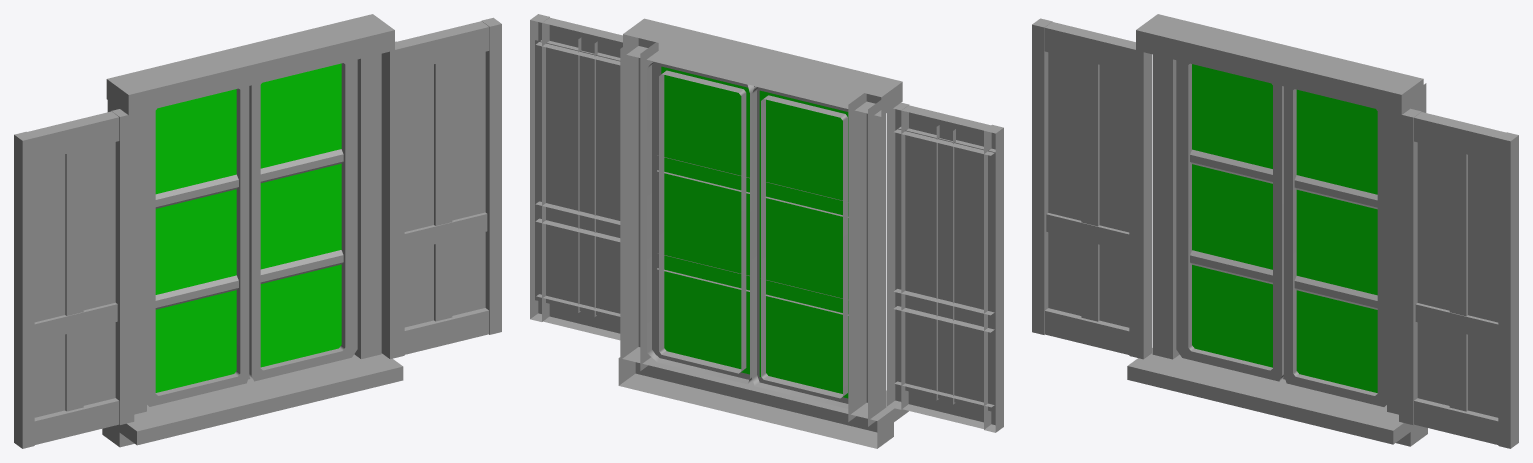
The model's file is SM_Fenetre_2.fbx.
3 views of the same model, side by side, from view 1: azimuth 30°, elevation 25°; view 2: azimuth 150°, elevation 25°; view 3: azimuth 330°, elevation 25° (orthographic). The views are drawn at different scales.
Parts seen in each view (by area): view 1: polySurface36, polySurface52, polySurface45, polySurface39, polySurface40, pCube72, pCube73, polySurface38, polySurface43, polySurface49, polySurface50, polySurface42 (+13 smaller); view 2: polySurface36, polySurface52, polySurface45, polySurface37, polySurface39, polySurface40, polySurface38, pCube72, pCube73, polySurface50, polySurface49, polySurface42 (+8 smaller); view 3: polySurface36, polySurface52, polySurface45, polySurface39, polySurface40, pCube73, pCube72, polySurface37, polySurface50, polySurface42, polySurface43, polySurface49 (+13 smaller).
Boxes of the visible parts, box(x1,y1,x2,y2) form: polySurface36: box(155, 63, 341, 392); polySurface52: box(34, 142, 115, 417); polySurface45: box(404, 51, 485, 327); polySurface39: box(106, 14, 394, 115); polySurface40: box(102, 353, 403, 447); pCube72: box(249, 59, 357, 381); pCube73: box(147, 86, 249, 406); polySurface38: box(354, 53, 381, 359); polySurface43: box(381, 41, 404, 359); polySurface49: box(14, 131, 34, 448); polySurface50: box(111, 109, 134, 424); polySurface42: box(481, 17, 501, 334); polySurface36: box(652, 61, 848, 403); polySurface52: box(897, 128, 995, 412); polySurface45: box(535, 40, 620, 320); polySurface37: box(848, 93, 886, 426); polySurface39: box(623, 18, 902, 116); polySurface40: box(618, 347, 908, 448); polySurface38: box(620, 37, 658, 370); pCube72: box(647, 61, 754, 384); pCube73: box(752, 86, 848, 408); polySurface50: box(887, 102, 909, 409); polySurface49: box(984, 124, 1003, 432); polySurface42: box(530, 14, 549, 321); polySurface36: box(1192, 64, 1377, 392); polySurface52: box(1048, 52, 1129, 327); polySurface45: box(1417, 142, 1498, 417); polySurface39: box(1136, 14, 1423, 114); polySurface40: box(1127, 348, 1427, 446); pCube73: box(1176, 60, 1283, 381); pCube72: box(1284, 86, 1386, 406); polySurface37: box(1152, 54, 1179, 359); polySurface50: box(1129, 43, 1151, 359); polySurface42: box(1498, 132, 1518, 448); polySurface43: box(1399, 108, 1421, 425); polySurface49: box(1032, 18, 1052, 334).
Size of the model in its own units: 534 by 382 by 71.04.
